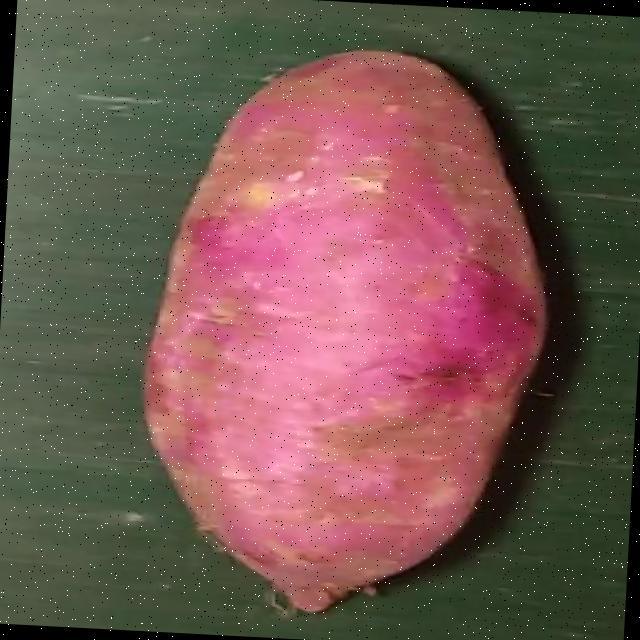Sweet Potato: (141, 50, 546, 612)
